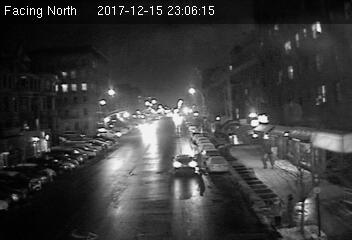car: (173, 156, 196, 175), (206, 156, 228, 171)
